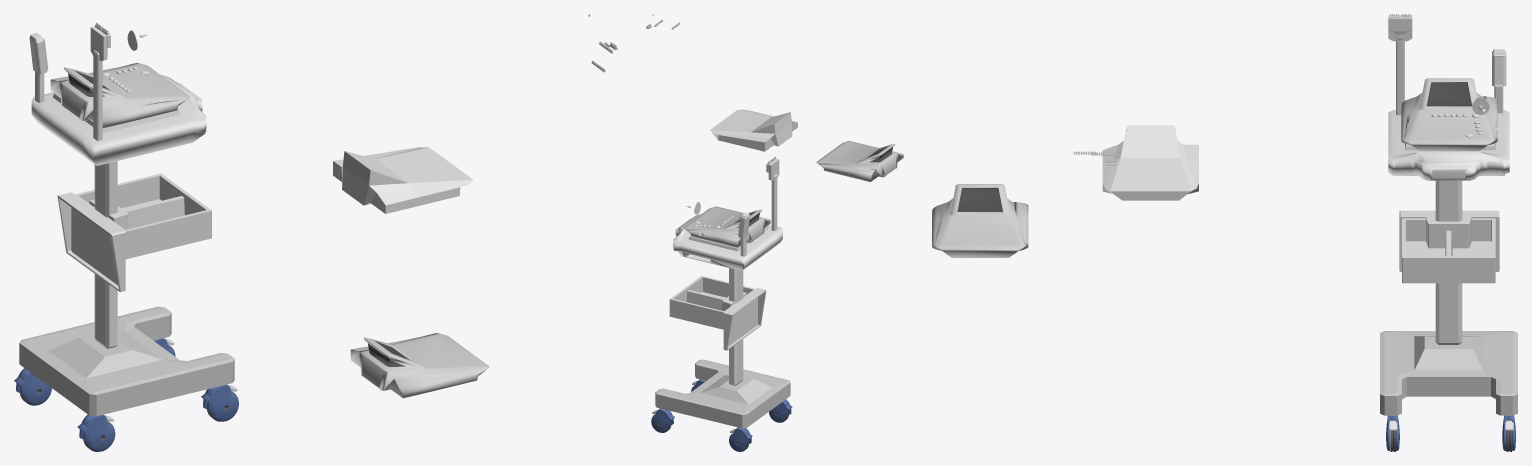
Rendered from ekgstandmachineV1.fbx.
3 renders of one model, left to right at view 1: azimuth 30°, elevation 25°; view 2: azimuth 150°, elevation 25°; view 3: azimuth 270°, elevation 25°, orthographic. The views are drawn at different scales.
Visible parts, largest first — view 1: Cube, Cube.005, Cube.023, Cube.002, Cube.006, Cube.004, Cube.027, Cube.001, Cylinder.013, Cylinder.030, Cylinder.016, Cube.007 (+1 smaller); view 2: Cube, Cube.005, Cube.023, Cube.006, Cube.002, Cube.004, Cube.027, Cube.001, Cylinder.016, Cylinder.019, Cube.007, Cylinder.013; view 3: Cube, Cube.005, Cube.023, Cube.006, Cube.004, Cube.002, Cube.001, Cube.027, Cube.007.
Boxes of the visible parts, left/top/right/bottom form: Cube: left=19, top=306, right=234, bottom=416; Cube.005: left=333, top=147, right=472, bottom=213; Cube.023: left=75, top=173, right=211, bottom=259; Cube.002: left=31, top=74, right=206, bottom=165; Cube.006: left=350, top=333, right=489, bottom=398; Cube.004: left=50, top=63, right=189, bottom=128; Cube.027: left=57, top=192, right=125, bottom=291; Cube.001: left=94, top=161, right=117, bottom=348; Cylinder.013: left=77, top=414, right=115, bottom=451; Cylinder.030: left=201, top=384, right=238, bottom=421; Cylinder.016: left=14, top=368, right=51, bottom=405; Cube.007: left=93, top=50, right=102, bottom=140; Cube: left=655, top=359, right=790, bottom=428; Cube.005: left=710, top=109, right=797, bottom=151; Cube.023: left=669, top=276, right=755, bottom=329; Cube.006: left=816, top=141, right=903, bottom=181; Cube.002: left=673, top=214, right=782, bottom=270; Cube.004: left=683, top=206, right=770, bottom=247; Cube.027: left=723, top=288, right=766, bottom=350; Cube.001: left=729, top=268, right=743, bottom=385; Cylinder.016: left=729, top=427, right=752, bottom=451; Cylinder.019: left=651, top=409, right=674, bottom=432; Cube.007: left=771, top=174, right=777, bottom=230; Cylinder.013: left=769, top=399, right=792, bottom=422; Cube: left=1380, top=331, right=1517, bottom=415; Cube.005: left=1102, top=125, right=1198, bottom=200; Cube.023: left=1402, top=217, right=1495, bottom=283; Cube.006: left=932, top=184, right=1028, bottom=257; Cube.004: left=1401, top=78, right=1497, bottom=151; Cube.002: left=1388, top=110, right=1509, bottom=180; Cube.001: left=1435, top=180, right=1462, bottom=344; Cube.027: left=1399, top=210, right=1499, bottom=271; Cube.007: left=1396, top=39, right=1404, bottom=115.
Size of the model in its own units: 3034 by 3483 by 4399.
